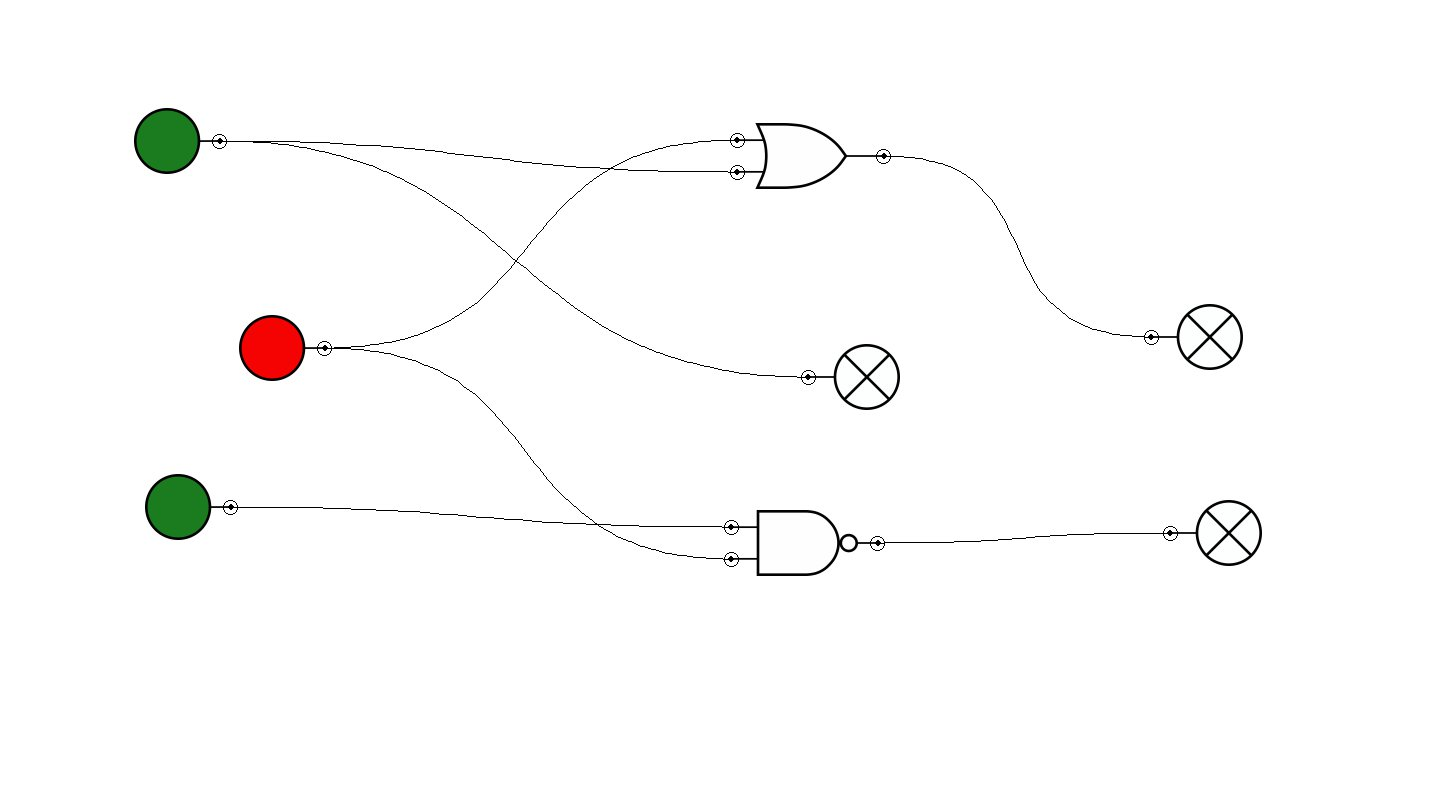bulb: (1163, 500, 1262, 566), (1144, 304, 1243, 370), (801, 344, 900, 410)
nand: (724, 510, 885, 576)
or: (730, 123, 891, 189)
switch_False: (239, 315, 332, 381)
switch_True: (145, 474, 238, 540), (134, 108, 227, 174)
